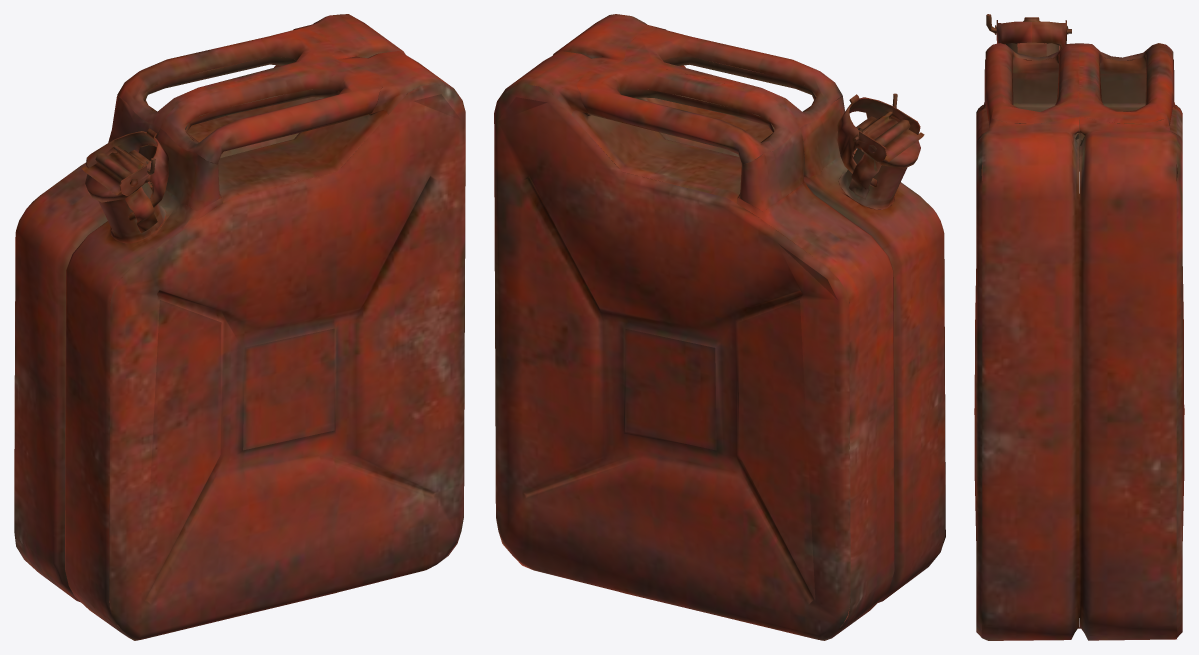
File: metal_jerrycan.glb
3 renders of one model, left to right at view 1: azimuth 30°, elevation 25°; view 2: azimuth 150°, elevation 25°; view 3: azimuth 270°, elevation 25°, orthographic. The views are drawn at different scales.
Parts seen in each view (by area): view 1: metal_jerrycan; view 2: metal_jerrycan; view 3: metal_jerrycan.
Boxes of the visible parts, x1,y1,x2,y2 form: metal_jerrycan: [14, 14, 465, 640]; metal_jerrycan: [494, 14, 945, 640]; metal_jerrycan: [974, 14, 1184, 640].
Size of the model in its own units: 0.35 by 0.4551 by 0.1723.
1 material, 1 textured.
